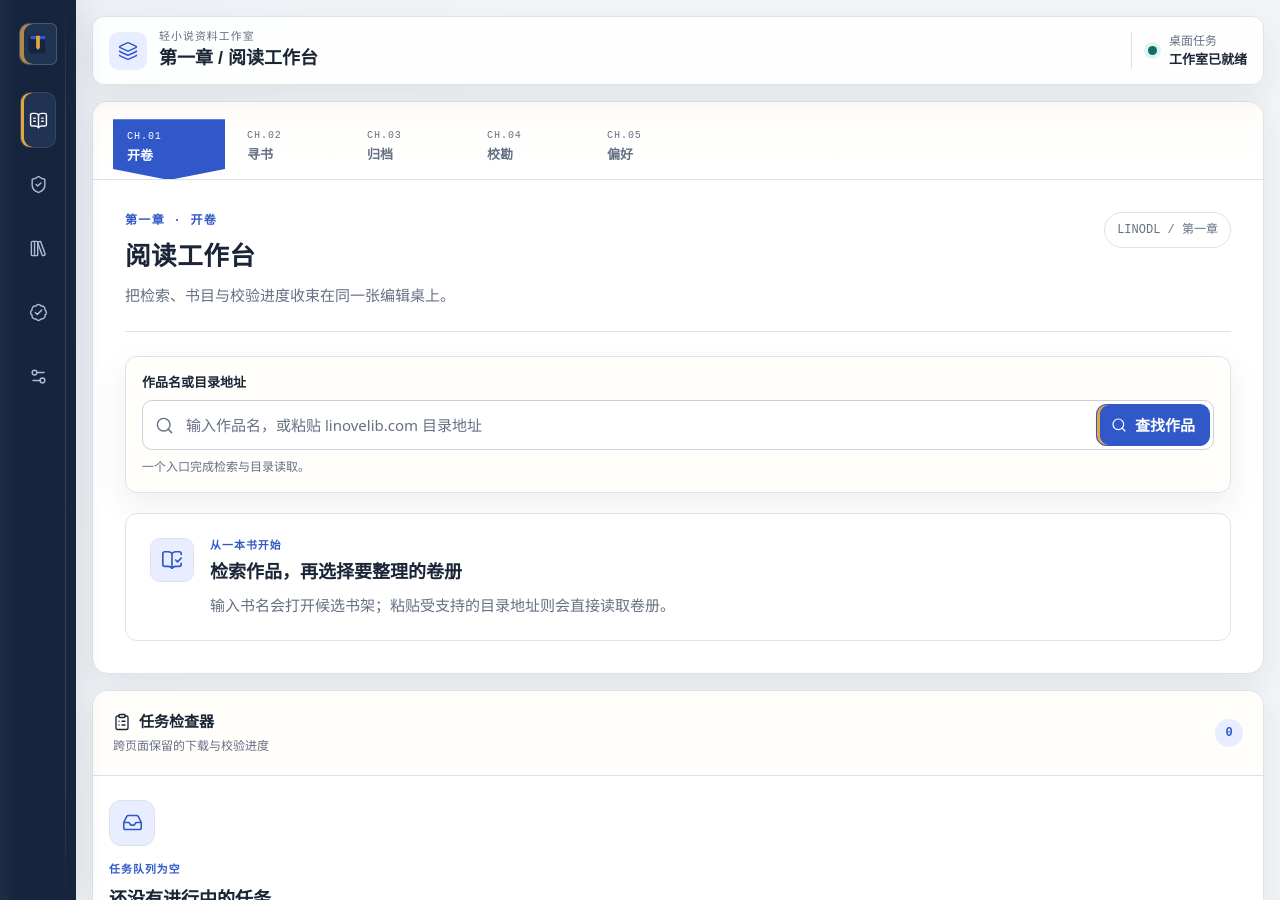
Test case: DesktopShell › keeps the global task inspector when navigating
The width and height of the screenshot is (1280, 900).
Expected: the element "任务检查器" is shown, left=92, top=690, right=1264, bottom=899
Click the button named "内容校验" at (38,312), box left=20, top=284, right=56, bottom=340
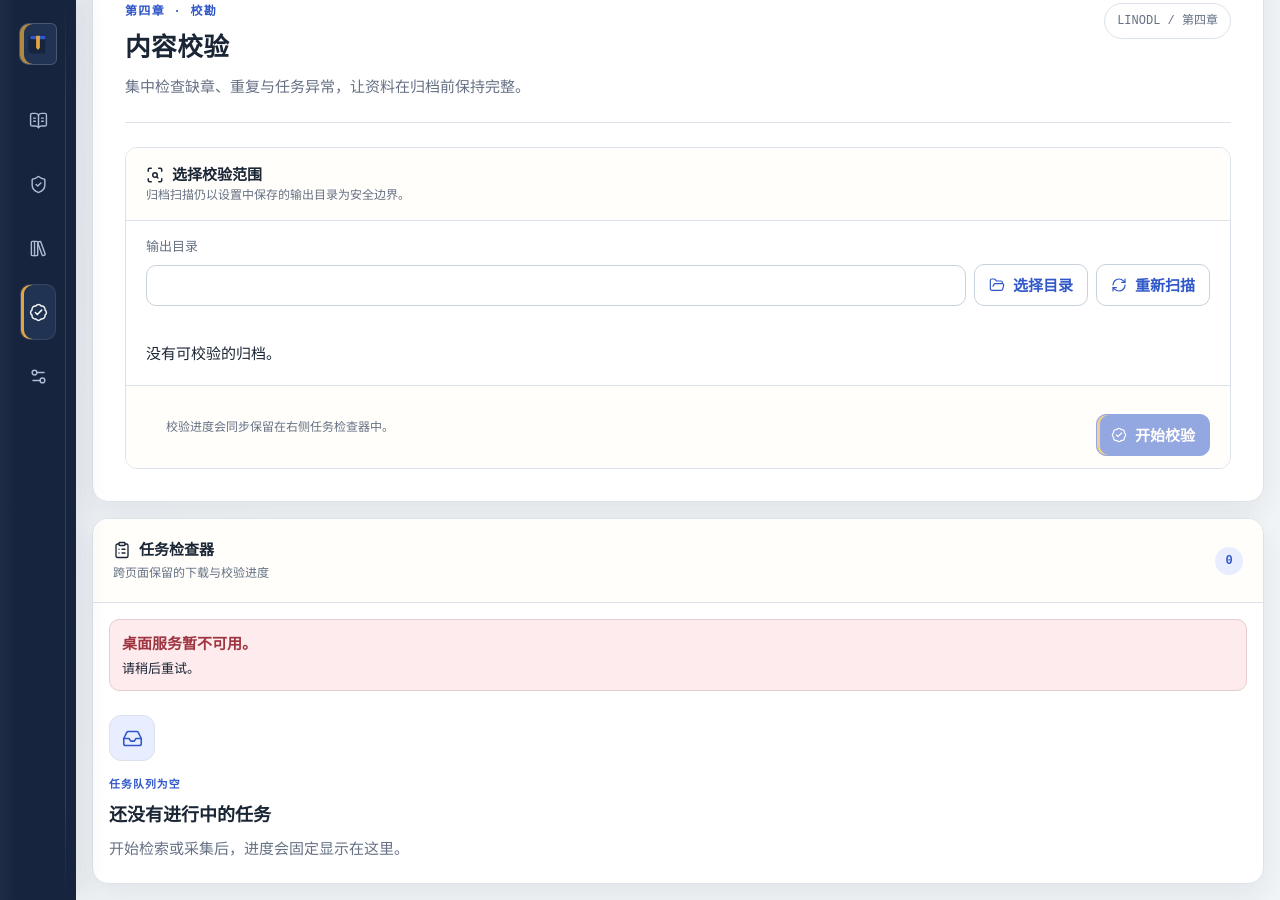
Expected: the element "任务检查器" is shown, left=92, top=518, right=1264, bottom=884
Now the heading "内容校验" is shown, box left=125, top=33, right=229, bottom=62
